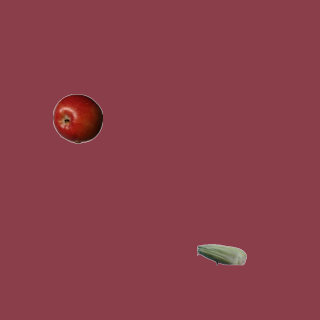Apple Braeburn: (52, 93, 102, 143)
Corn Husk: (196, 229, 246, 279)
